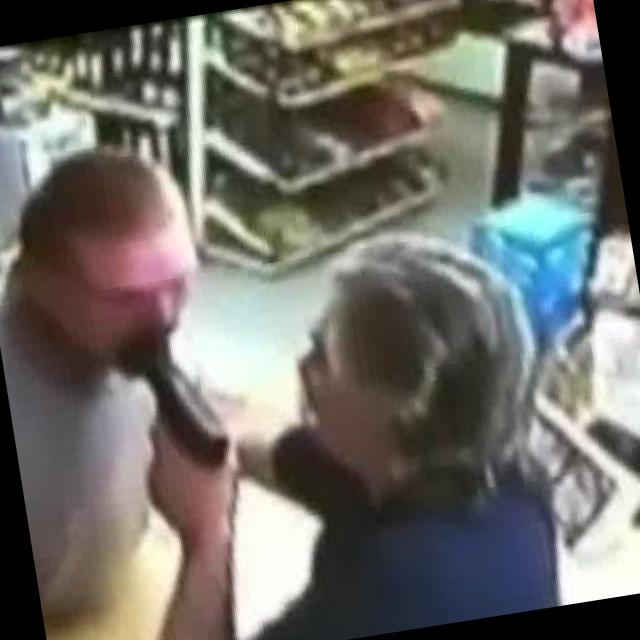Guns: (92, 299, 264, 540)
